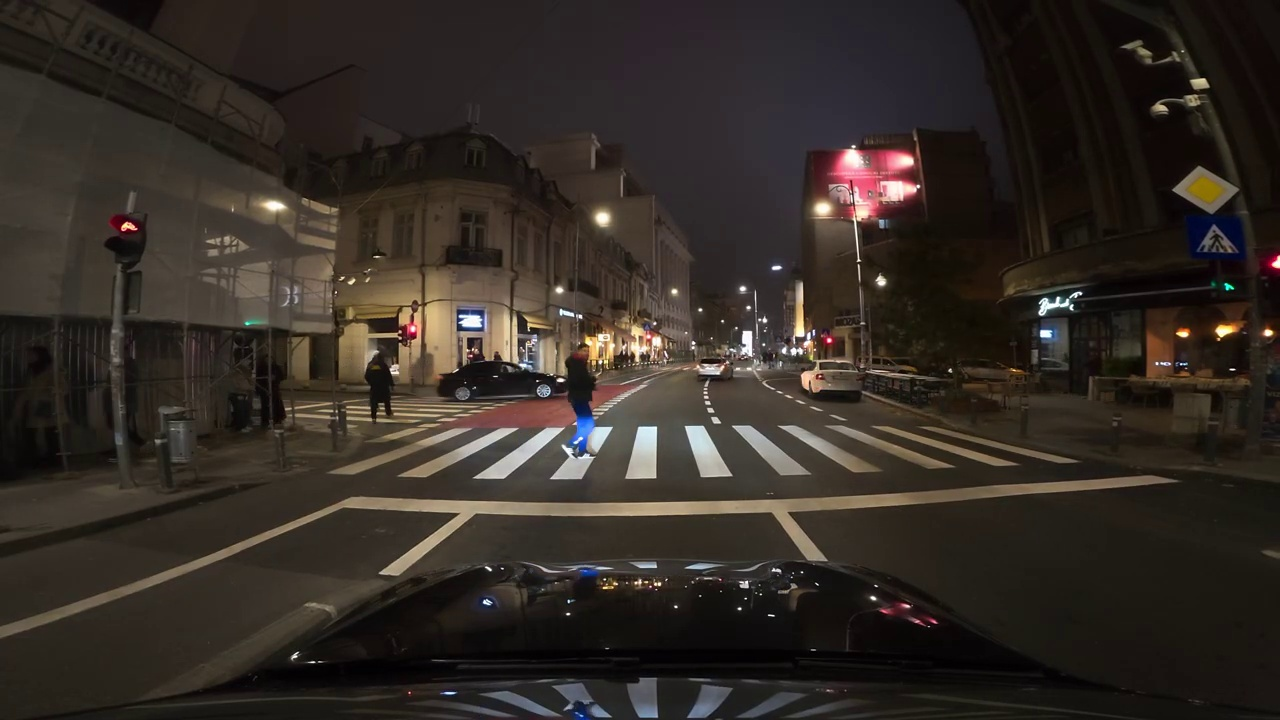acesa: (591, 207, 615, 231), (839, 150, 865, 172), (259, 199, 286, 219), (812, 197, 834, 220), (870, 273, 890, 293)
